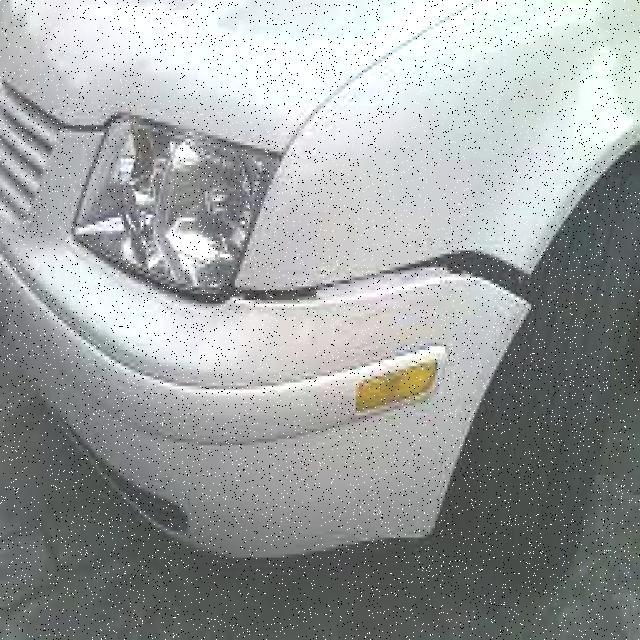car damage: (238, 234, 537, 325)
